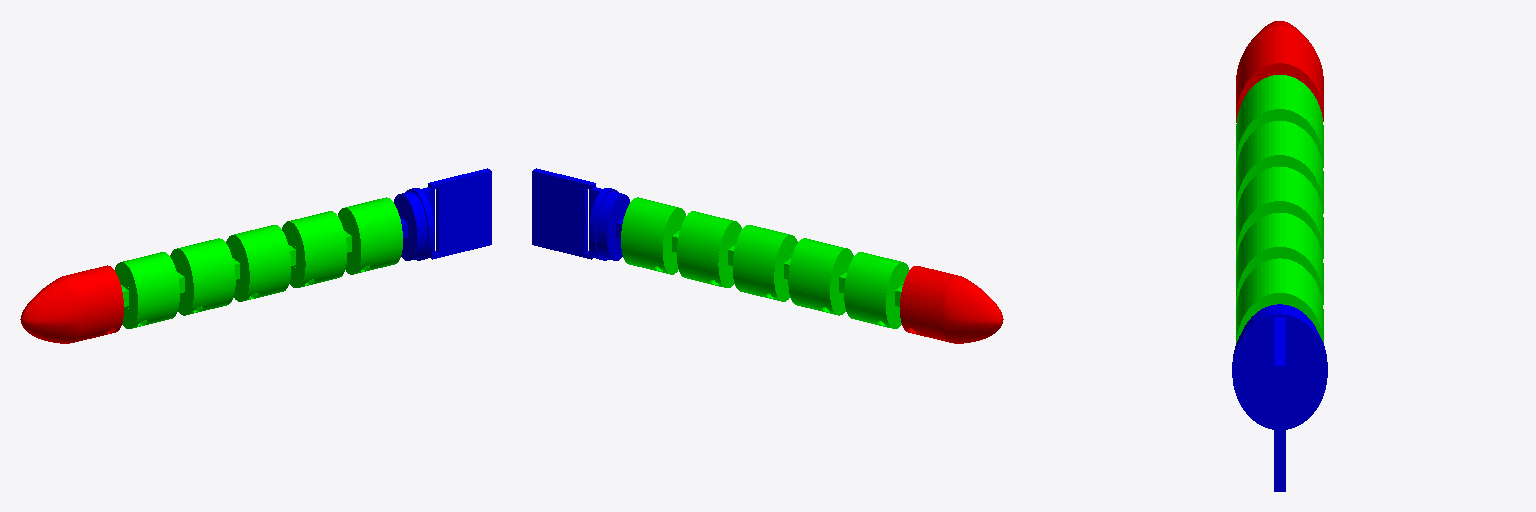
The robot description file, URDF, robot "mubot":
<?xml version="1.0" encoding="utf-8"?>
<robot
  name="mubot">


<!--Defination of links: head, body, peduncle and tail -->


<link
  name="dummy_link">
  <inertial>
    <origin
      xyz="0.02857 0.0 0.0"
      rpy="0 0 0" />
    <mass
      value="1.967E-02" />
    <inertia
      ixx="5.351E-07"
      ixy="0.0"
      ixz="0.0"
      iyy="7.136E-07"
      iyz="0.0"
      izz="6.043E-06" />
  </inertial>
  <visual>
    <origin
      xyz="0 0 0"
      rpy="0 0 0" />
    <geometry>
      <mesh
        filename="package://des_mubot/meshes/segment_head.STL" scale="1 1 1"/>
    </geometry>
    <material
      name="">
      <color
        rgba="1 0 0 1" />
    </material>
  </visual>
  <collision>
    <origin
      xyz="0 0 0"
      rpy="0 0 0" />
    <geometry>
      <mesh
        filename="package://des_mubot/meshes/segment_head.STL" scale="1 1 1"/>
    </geometry>
  </collision>
</link>

<link
  name="segment_body_1">
  <inertial>
    <origin
      xyz="0.01170 0.0 0.0"
      rpy="0 0 0" />
    <mass
      value="1.975E-02" />
    <inertia
      ixx="6.205E-07"
      ixy="0.0"
      ixz="0.0"
      iyy="8.904E-07"
      iyz="0.0"
      izz="2.018E-06" />
  </inertial>
  <visual>
    <origin
      xyz="0 0 0"
      rpy="0 0 0" />
    <geometry>
      <mesh
        filename="package://des_mubot/meshes/segment_body.STL" scale="1 1 1"/>
    </geometry>
    <material
      name="">
      <color
        rgba="0 1 0 1" />
    </material>
  </visual>
  <collision>
    <origin
      xyz="0 0 0"
      rpy="0 0 0" />
    <geometry>
      <mesh
        filename="package://des_mubot/meshes/segment_body.STL" scale="1 1 1"/>
    </geometry>
  </collision>
</link>


<link name="segment_head">
</link>
<joint
name="dummy joint" type="fixed">
<parent
  link="segment_head" />
<child
  link="dummy_link" />
</joint>


<link
  name="segment_body_2">
  <inertial>
    <origin
      xyz="0.01170 0.0 0.0"
      rpy="0 0 0" />
    <mass
      value="1.975E-02" />
      <inertia
        ixx="6.205E-07"
        ixy="0.0"
        ixz="0.0"
        iyy="8.904E-07"
        iyz="0.0"
        izz="2.018E-06" />
    </inertial>
  <visual>
    <origin
      xyz="0 0 0"
      rpy="0 0 0" />
    <geometry>
      <mesh
        filename="package://des_mubot/meshes/segment_body.STL" scale="1 1 1"/>
    </geometry>
    <material
      name="">
      <color
        rgba="0 1 0 1" />
    </material>
  </visual>
  <collision>
    <origin
      xyz="0 0 0"
      rpy="0 0 0" />
    <geometry>
      <mesh
        filename="package://des_mubot/meshes/segment_body.STL" scale="1 1 1"/>
    </geometry>
  </collision>
</link>

<link
  name="segment_body_3">
  <inertial>
    <origin
      xyz="0.01170 0.0 0.0"
      rpy="0 0 0" />
    <mass
      value="1.975E-02" />
      <inertia
        ixx="6.205E-07"
        ixy="0.0"
        ixz="0.0"
        iyy="8.904E-07"
        iyz="0.0"
        izz="2.018E-06" />
    </inertial>
  <visual>
    <origin
      xyz="0 0 0"
      rpy="0 0 0" />
    <geometry>
      <mesh
        filename="package://des_mubot/meshes/segment_body.STL" scale="1 1 1"/>
    </geometry>
    <material
      name="">
      <color
        rgba="0 1 0 1" />
    </material>
  </visual>
  <collision>
    <origin
      xyz="0 0 0"
      rpy="0 0 0" />
    <geometry>
      <mesh
        filename="package://des_mubot/meshes/segment_body.STL" scale="1 1 1"/>
    </geometry>
  </collision>
</link>

<link
  name="segment_body_4">
  <inertial>
    <origin
      xyz="0.01170 0.0 0.0"
      rpy="0 0 0" />
    <mass
      value="1.975E-02" />
      <inertia
        ixx="6.205E-07"
        ixy="0.0"
        ixz="0.0"
        iyy="8.904E-07"
        iyz="0.0"
        izz="2.018E-06" />
    </inertial>
  <visual>
    <origin
      xyz="0 0 0"
      rpy="0 0 0" />
    <geometry>
      <mesh
        filename="package://des_mubot/meshes/segment_body.STL" scale="1 1 1"/>
    </geometry>
    <material
      name="">
      <color
        rgba="0 1 0 1" />
    </material>
  </visual>
  <collision>
    <origin
      xyz="0 0 0"
      rpy="0 0 0" />
    <geometry>
      <mesh
        filename="package://des_mubot/meshes/segment_body.STL" scale="1 1 1"/>
    </geometry>
  </collision>
</link>

<link
  name="segment_body_5">
  <inertial>
    <origin
      xyz="0.01170 0.0 0.0"
      rpy="0 0 0" />
    <mass
      value="1.975E-02" />
      <inertia
        ixx="6.205E-07"
        ixy="0.0"
        ixz="0.0"
        iyy="8.904E-07"
        iyz="0.0"
        izz="2.018E-06" />
    </inertial>
  <visual>
    <origin
      xyz="0 0 0"
      rpy="0 0 0" />
    <geometry>
      <mesh
        filename="package://des_mubot/meshes/segment_body.STL" scale="1 1 1"/>
    </geometry>
    <material
      name="">
      <color
        rgba="0 1 0 1" />
    </material>
  </visual>
  <collision>
    <origin
      xyz="0 0 0"
      rpy="0 0 0" />
    <geometry>
      <mesh
        filename="package://des_mubot/meshes/segment_body.STL" scale="1 1 1"/>
    </geometry>
  </collision>
</link>

<link
  name="segment_peduncle">
  <inertial>
    <origin
      xyz="0.007515 0.0 0.0"
      rpy="0 0 0" />
    <mass
      value="1.418E-02" />
    <inertia
      ixx="5.040E-07"
      ixy="0.0"
      ixz="0.0"
      iyy="3.564E-07"
      iyz="0.0"
      izz="1.109E-06" />
  </inertial>
  <visual>
    <origin
      xyz="0 0 0"
      rpy="0 0 0" />
    <geometry>
      <mesh
        filename="package://des_mubot/meshes/segment_tail.STL" scale="1 1 1"/>
    </geometry>
    <material
      name="">
      <color
        rgba="0 0 1 1" />
    </material>
  </visual>
  <collision>
    <origin
      xyz="0 0 0"
      rpy="0 0 0" />
    <geometry>
      <mesh
        filename="package://des_mubot/meshes/segment_tail.STL" scale="1 1 1"/>
    </geometry>
  </collision>
</link>

<link
  name="segment_tip">
  <inertial>
    <origin
      xyz="0.01400 0.0 0.0"
      rpy="0 0 0" />
    <mass
      value="1.003E-02" />
    <inertia
      ixx="2.567E-08"
      ixy="0.0"
      ixz="0.0"
      iyy="4.882E-08"
      iyz="0.0"
      izz="1.730E-06" />
  </inertial>
  <visual>
    <origin
      xyz="0 0 0"
      rpy="0 0 0" />
    <geometry>
      <mesh
        filename="package://des_mubot/meshes/segment_tip.STL" scale="1 1 1"/>
    </geometry>
    <material
      name="">
      <color
        rgba="0 0 1 1" />
    </material>
  </visual>
  <collision>
    <origin
      xyz="0 0 0"
      rpy="0 0 0" />
    <geometry>
      <mesh
        filename="package://des_mubot/meshes/segment_tip.STL" scale="1 1 1"/>
    </geometry>
  </collision>
</link>


<!--Defination of joints: joint0-joint5-->
<joint
name="joint_a0"
type="revolute">
<origin
  xyz="0.041 0 0"
  rpy="0 0 0" />
<parent
  link="segment_head" />
<child
  link="segment_body_1" />
<axis
  xyz="0 0 1" />
<limit
  lower="-1.57"
  upper="1.57"
  effort="10"
  velocity="10" />
</joint>

<joint
name="joint_a1"
type="revolute">
<origin
  xyz="0.02675 0 0"
  rpy="0 0 0" />
<parent
  link="segment_body_1" />
<child
  link="segment_body_2" />
<axis
  xyz="0 0 1" />
<limit
  lower="-1.57"
  upper="1.57"
  effort="10"
  velocity="10" />
</joint>

<joint
name="joint_a2"
type="revolute">
<origin
  xyz="0.02675 0 0"
  rpy="0 0 0" />
<parent
  link="segment_body_2" />
<child
  link="segment_body_3" />
<axis
  xyz="0 0 1" />
<limit
  lower="-1.57"
  upper="1.57"
  effort="10"
  velocity="10" />
</joint>

<joint
name="joint_a3"
type="revolute">
<origin
  xyz="0.02675 0 0"
  rpy="0 0 0" />
<parent
  link="segment_body_3" />
<child
  link="segment_body_4" />
<axis
  xyz="0 0 1" />
<limit
  lower="-1.57"
  upper="1.57"
  effort="10"
  velocity="10" />
</joint>

<joint
name="joint_a4"
type="revolute">
<origin
  xyz="0.02675 0 0"
  rpy="0 0 0" />
<parent
  link="segment_body_4" />
<child
  link="segment_body_5" />
<axis
  xyz="0 0 1" />
<limit
  lower="-1.57"
  upper="1.57"
  effort="10"
  velocity="10" />
</joint>

<joint
name="joint_a5"
type="revolute">
<origin
  xyz="0.02675 0 0"
  rpy="0 0 0" />
<parent
  link="segment_body_5" />
<child
  link="segment_peduncle" />
<axis
  xyz="0 0 1" />
<limit
  lower="-1.57"
  upper="1.57"
  effort="10"
  velocity="10" />
</joint>

<joint
name="joint_p0"
type="revolute">
<origin
  xyz="0.02175 0 0"
  rpy="0 0 0" />
<parent
  link="segment_peduncle" />
<child
  link="segment_tip" />
<axis
  xyz="0 0 1" />
<limit
  lower="-1.57"
  upper="1.57"
  effort="10"
  velocity="10" />
</joint>


<gazebo reference="dummy_link">
    <material>Gazebo/Red</material>
</gazebo>

<gazebo reference="segment_body_1">
    <material>Gazebo/Yellow</material>
</gazebo>
<gazebo reference="segment_body_2">
    <material>Gazebo/Yellow</material>
</gazebo>
<gazebo reference="segment_body_3">
    <material>Gazebo/Yellow</material>
</gazebo>
<gazebo reference="segment_body_4">
    <material>Gazebo/Yellow</material>
</gazebo>
<gazebo reference="segment_body_5">
    <material>Gazebo/Yellow</material>
</gazebo>

<gazebo reference="segment_peduncle">
    <material>Gazebo/Orange</material>
</gazebo>

<gazebo reference="segment_tip">
    <material>Gazebo/Blue</material>
</gazebo>

<!--Defination of plugins-->
<gazebo>
    <plugin name="gazebo_ros_control" filename="libgazebo_ros_control.so">
        <robotNamespace>/mubot</robotNamespace>
    </plugin>
</gazebo>

<gazebo>
        <plugin name="Actuator_control" filename="libactuator_6.so"/>
        <plugin name="Hydro_Plugin" filename="libHydro_6.so"/>
</gazebo>


</robot>

--- Render facts (derived) ---
3 views of the same robot in one strip: view 1: azimuth 30°, elevation 25°; view 2: azimuth 150°, elevation 25°; view 3: azimuth 270°, elevation 25° (orthographic).
Robot: mubot — 9 links, 8 joints (7 revolute, 1 fixed); root link segment_head; default pose: all joints at 0.
Visible links, largest first — view 1: dummy_link, segment_tip, segment_body_2, segment_body_5, segment_body_4, segment_body_1, segment_body_3, segment_peduncle; view 2: dummy_link, segment_tip, segment_body_2, segment_body_5, segment_body_4, segment_body_1, segment_body_3, segment_peduncle; view 3: segment_peduncle, dummy_link, segment_body_1, segment_body_3, segment_body_2, segment_body_4, segment_body_5, segment_tip.
Boxes of the visible links, x1,y1,x2,y2 form: dummy_link: (20, 265, 123, 343); segment_tip: (428, 168, 491, 259); segment_body_2: (170, 238, 235, 315); segment_body_5: (338, 197, 402, 274); segment_body_4: (282, 211, 346, 287); segment_body_1: (115, 252, 179, 328); segment_body_3: (226, 225, 290, 301); segment_peduncle: (394, 187, 434, 260); dummy_link: (900, 266, 1003, 343); segment_tip: (532, 168, 595, 259); segment_body_2: (788, 238, 853, 315); segment_body_5: (621, 197, 685, 274); segment_body_4: (677, 211, 741, 287); segment_body_1: (844, 252, 908, 328); segment_body_3: (733, 225, 797, 301); segment_peduncle: (589, 187, 629, 260); segment_peduncle: (1232, 304, 1327, 429); dummy_link: (1236, 21, 1323, 122); segment_body_1: (1236, 75, 1323, 168); segment_body_3: (1236, 167, 1323, 260); segment_body_2: (1236, 121, 1323, 214); segment_body_4: (1236, 213, 1323, 306); segment_body_5: (1236, 258, 1323, 342); segment_tip: (1274, 318, 1285, 491).
Size in the robot's own frame: 0.2245 by 0.0235 by 0.034 metres.
8 mesh visuals loaded from 4 distinct referenced files (4 binary STL).
